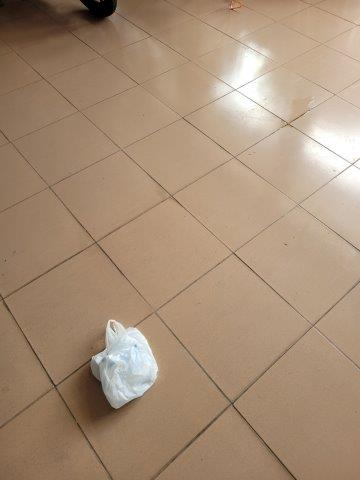plastik: (85, 321, 161, 403)
